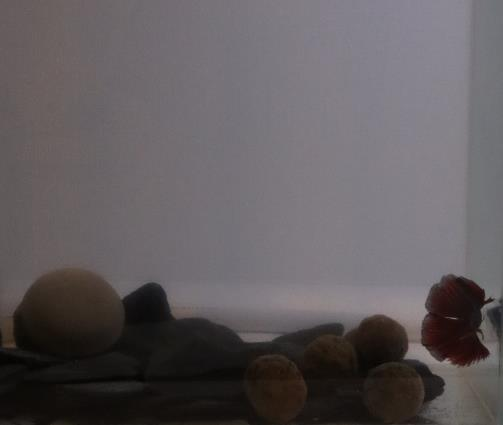fish: (420, 272, 492, 373)
